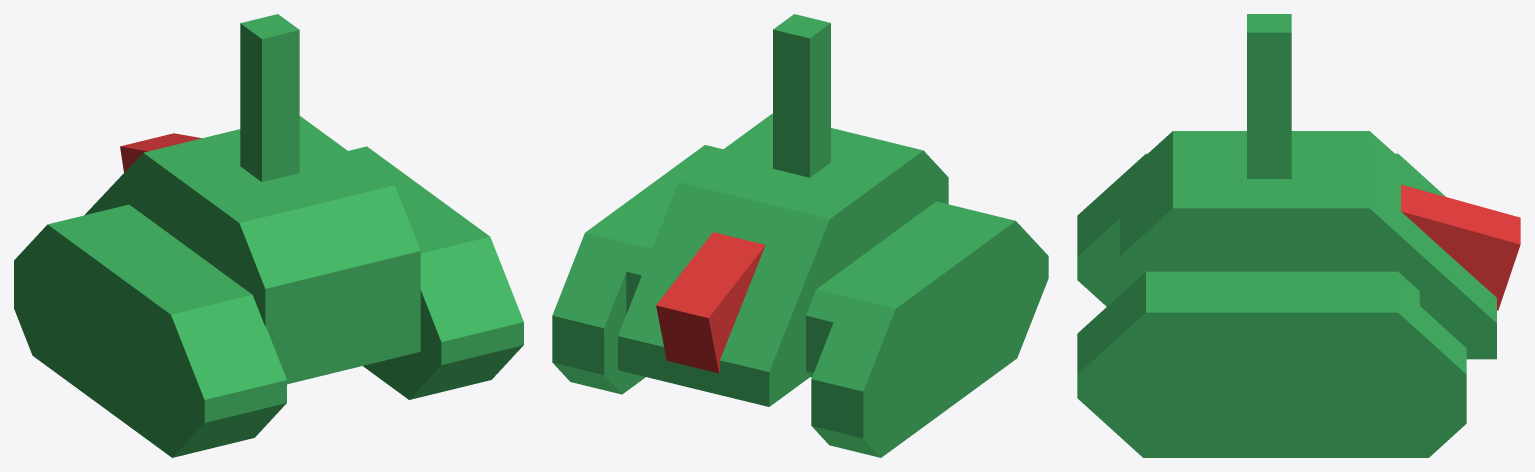
Rendered from Turret.fbx.
3 renders of one model, left to right at view 1: azimuth 30°, elevation 25°; view 2: azimuth 150°, elevation 25°; view 3: azimuth 270°, elevation 25°, orthographic. The views are drawn at different scales.
Visible parts, largest first — view 1: Turret.001; view 2: Turret.001; view 3: Turret.001.
Part boxes in pixels (x1,y1,x2,y2): Turret.001: (14,14,523,457); Turret.001: (552,14,1048,457); Turret.001: (1077,14,1520,457).
Size of the model in its own units: 296 by 308 by 348.
